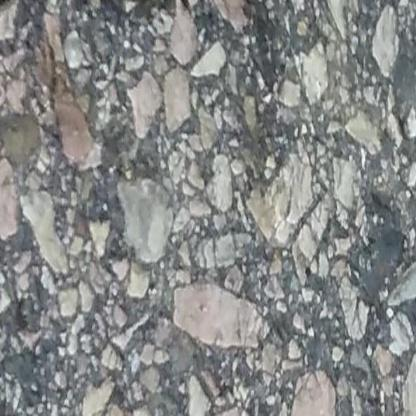Cracks: (0, 0, 31, 39), (88, 0, 190, 7)
